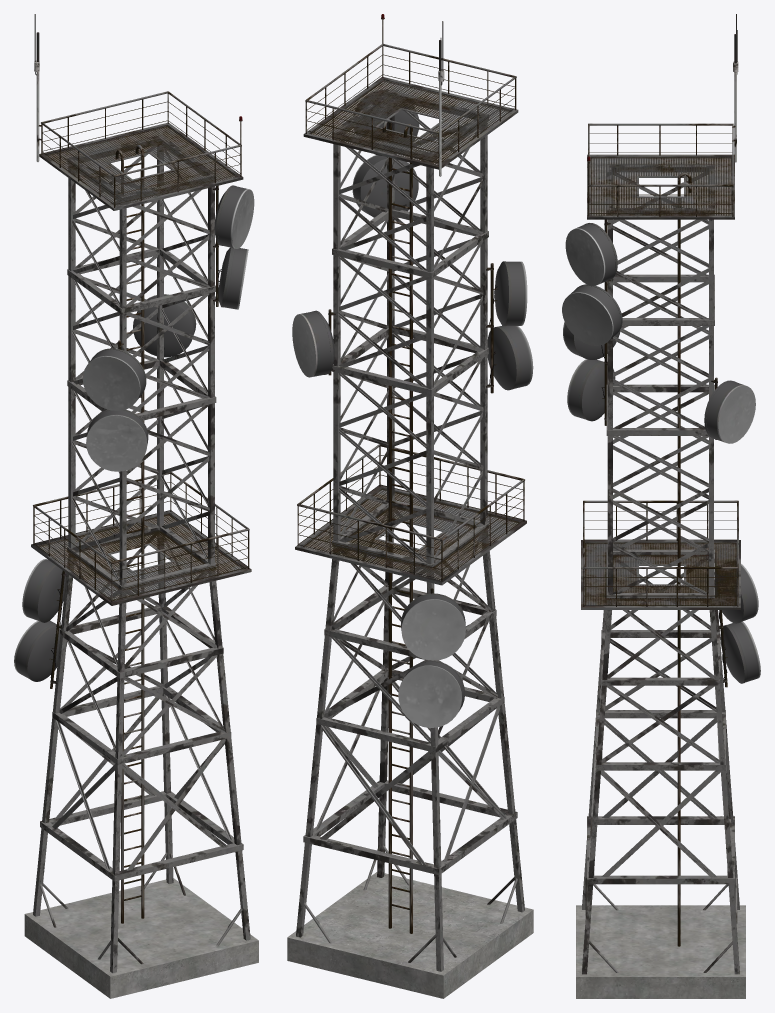
File: broadcast_tower_game_ready-opt.glb
The picture shows the model from 3 angles, left to right: view 1: azimuth 30°, elevation 25°; view 2: azimuth 150°, elevation 25°; view 3: azimuth 270°, elevation 25°; orthographic projection. The views are drawn at different scales.
Visible parts, largest first — view 1: defaultMaterial (×2); view 2: defaultMaterial (×2); view 3: defaultMaterial (×2).
Part boxes in pixels (x1=…): defaultMaterial (×2): x1=14, y1=14, x2=258, y2=998; defaultMaterial (×2): x1=287, y1=14, x2=533, y2=998; defaultMaterial (×2): x1=562, y1=14, x2=760, y2=998.
Bounding box in the file's own units: 324 × 1665 × 328.
Materials: 2 (2 with a texture image).
